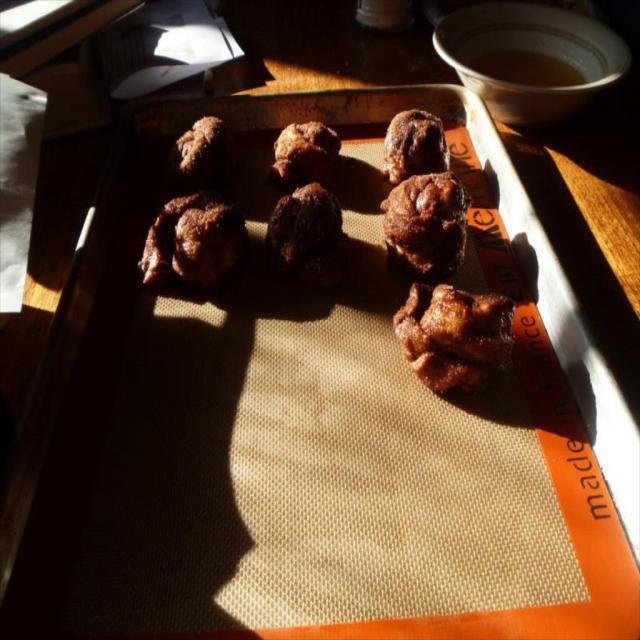Cookie: (393, 275, 519, 399), (134, 185, 250, 289), (258, 172, 344, 298), (377, 171, 471, 285), (264, 112, 344, 207), (382, 105, 452, 184), (178, 105, 238, 174)
